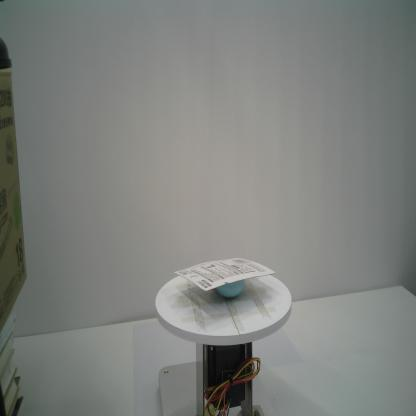Stationery: (174, 258, 275, 298)
